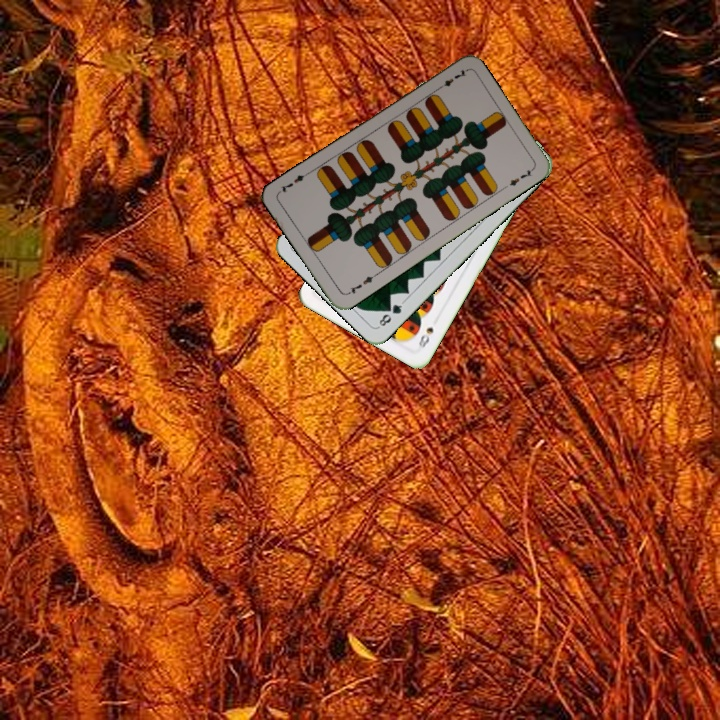E7: (433, 65, 469, 93), (343, 270, 379, 297)
G8: (374, 297, 406, 330)
S8: (414, 323, 436, 351)
